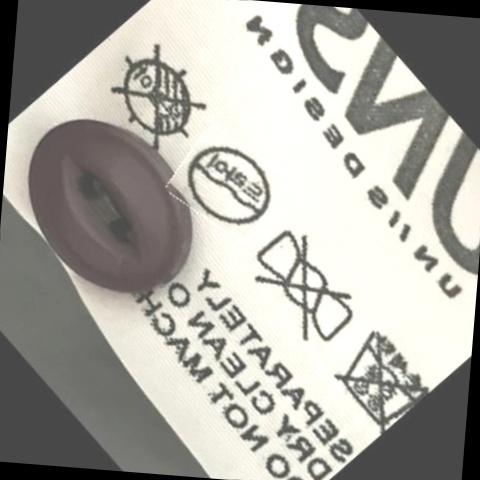DN_dry: (107, 46, 209, 150)
DN_wring: (246, 232, 362, 348)
dry_clean: (181, 137, 274, 234)
hand_wash: (331, 321, 428, 428)
